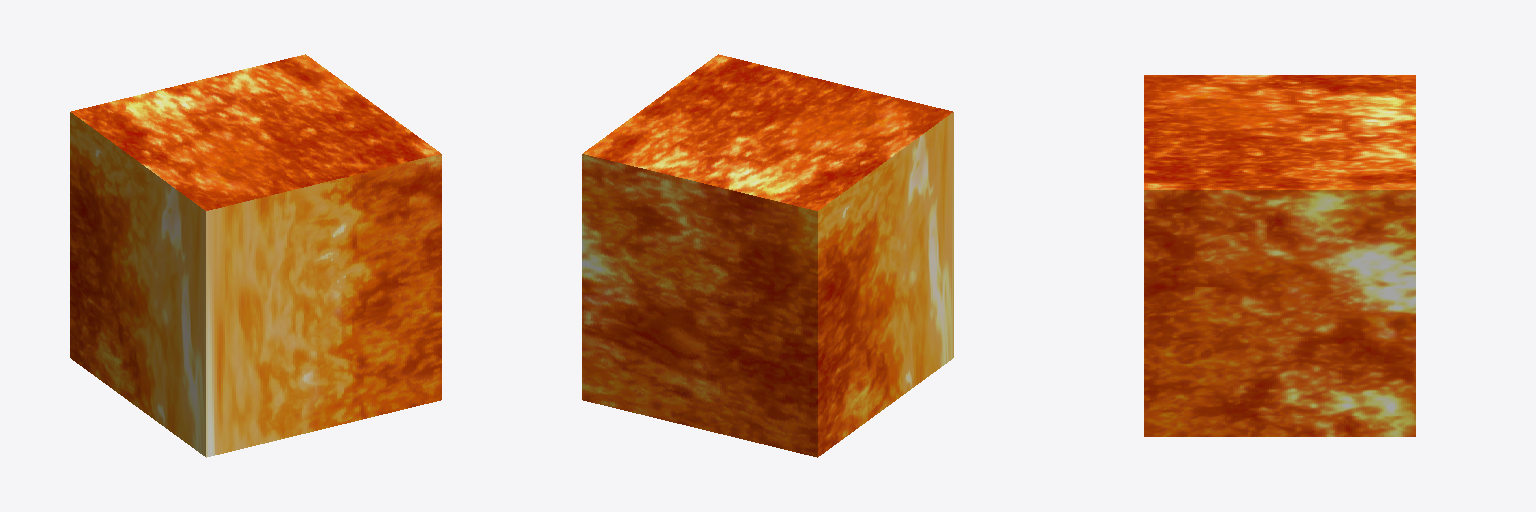
3 views of the same model, side by side, from view 1: azimuth 30°, elevation 25°; view 2: azimuth 150°, elevation 25°; view 3: azimuth 270°, elevation 25° (orthographic).
Parts seen in each view (by area): view 1: Cube; view 2: Cube; view 3: Cube.
Part boxes in pixels (left/top/right/bottom): Cube: left=70, top=54, right=441, bottom=457; Cube: left=582, top=54, right=953, bottom=457; Cube: left=1144, top=75, right=1415, bottom=436.
Bounding box in the file's own units: 2 × 2 × 2.
Materials: 1 (1 with a texture image).